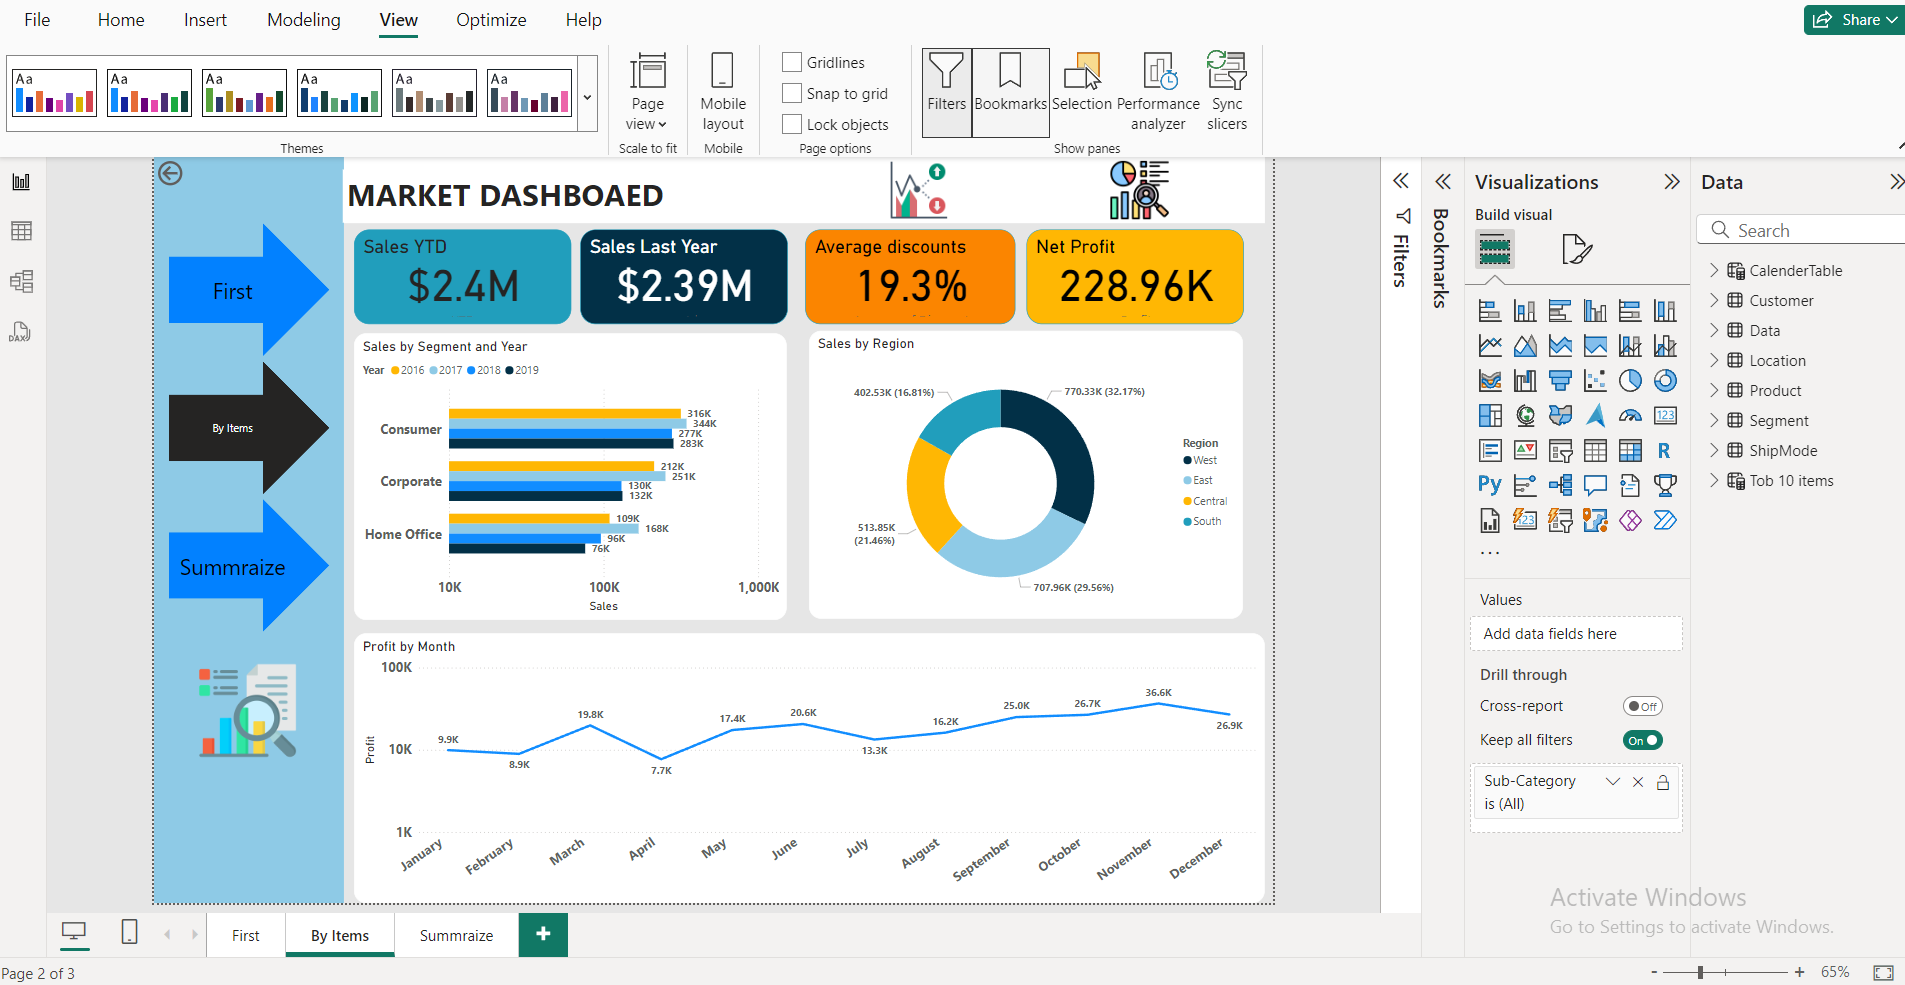

What the dashboard file says about the page in this screenshot:
{"tool":"powerbi","page":{"name":"By Items","canvas":[1380,920],"ordinal":1},"visuals":[{"type":"shape","box":[0,0,234.2,920],"z":0},{"type":"shape","box":[234.2,0,1135.7,81.7],"z":1000},{"type":"textbox","box":[233.5,15.1,468.4,65.9],"z":2000},{"type":"lineChart","fields":{"Y":["Sum(Data.Profit)"],"Category":["Data.Ship Date.Variation.Date Hierarchy.Month"]},"box":[246.6,587.1,1123.4,332.9],"z":3000},{"type":"pageNavigator","box":[18.3,81.7,198.3,505],"z":4000},{"type":"card","title":"Sales YTD","fields":{"Values":["Data.YTD"]},"box":[246.6,89.4,268.1,117.1],"z":5000},{"type":"card","title":"Sales Last Year","fields":{"Values":["CalenderTable.pytd"]},"box":[525.5,89.4,255.8,117.1],"z":6000},{"type":"card","title":"Net Profit","fields":{"Values":["Sum(Data.Profit)"]},"box":[1075.6,89.4,268.1,117.1],"z":7000},{"type":"card","title":"Average discounts","fields":{"Values":["Avg(Data.Discount)"]},"box":[802.9,89.4,258.9,117.1],"z":8000},{"type":"donutChart","fields":{"Category":["Location.Region"],"Y":["Sum(Data.Sales)"]},"box":[808.3,215,535,355],"z":9000},{"type":"actionButton","box":[0,0,100,40],"z":10000},{"type":"clusteredBarChart","fields":{"Y":["Sum(Data.Sales)"],"Series":["Data.Order Date.Variation.Date Hierarchy.Year"],"Category":["Segment.Segment"]},"box":[246.7,216.7,533.3,353.3],"z":11000},{"type":"image","box":[1111.1,0,208,81.7],"z":11001},{"type":"image","box":[861.4,0,163.4,81.7],"z":11002},{"type":"image","box":[44.7,614.9,141.8,135.6],"z":11003}]}

Visuals, with their boxes on the page's 1380x920 design canvas (x1, y1, x2, y2). These are canvas units, not pixel positions in the 1905x985 screenshot, which may show the page scaled, cropped or inside an application window:
shape: bbox=(0, 0, 234, 920)
shape: bbox=(234, 0, 1370, 82)
textbox: bbox=(234, 15, 702, 81)
lineChart - Sum(Data.Profit) x Data.Ship Date.Variation.Date Hierarchy.Month: bbox=(247, 587, 1370, 920)
pageNavigator: bbox=(18, 82, 217, 587)
"Sales YTD" card: bbox=(247, 89, 515, 206)
"Sales Last Year" card: bbox=(526, 89, 781, 206)
"Net Profit" card: bbox=(1076, 89, 1344, 206)
"Average discounts" card: bbox=(803, 89, 1062, 206)
donutChart - Location.Region x Sum(Data.Sales): bbox=(808, 215, 1343, 570)
actionButton: bbox=(0, 0, 100, 40)
clusteredBarChart - Sum(Data.Sales) x Data.Order Date.Variation.Date Hierarchy.Year: bbox=(247, 217, 780, 570)
image: bbox=(1111, 0, 1319, 82)
image: bbox=(861, 0, 1025, 82)
image: bbox=(45, 615, 186, 750)
